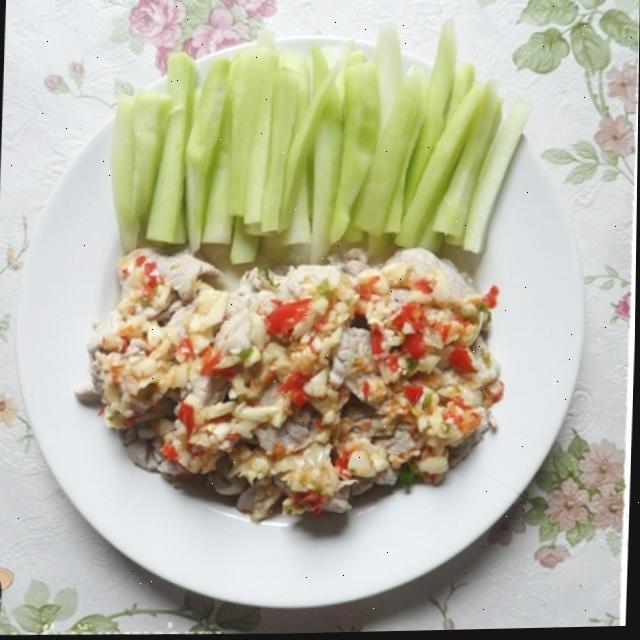猪肉菜式: (9, 17, 592, 597)
